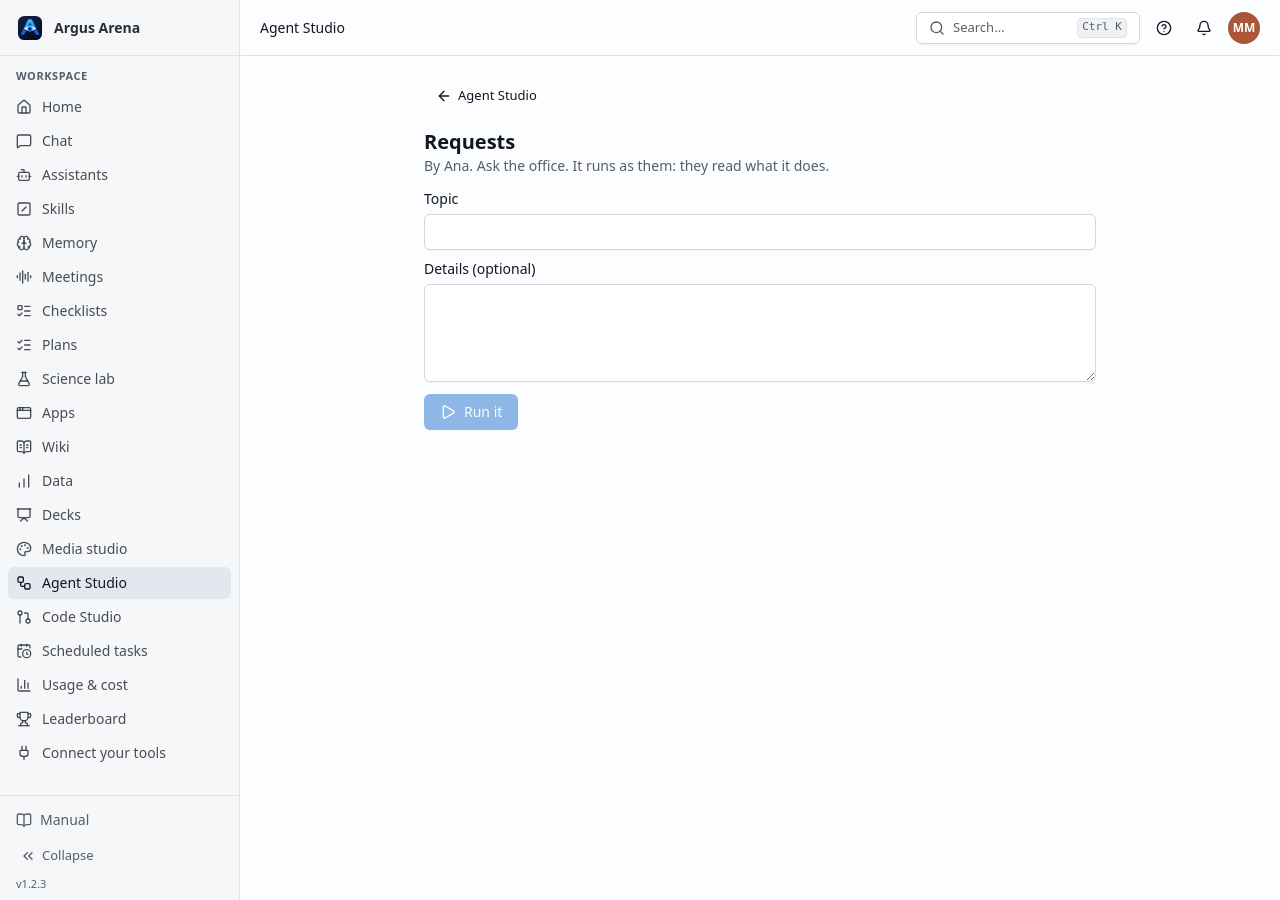
Agent Studio › a shared workflow is a form: it runs as its owner, needed fields first
This screenshot has width=1280, height=900.
expect the text "By Ana" shows "It runs as them": met, box [569,156,829,175]
expect the button "Run it" is disabled: met, box [424,394,518,430]
Type "Chairs" into the field labelled "Topic" at [760, 232], box [424,214,1096,250]
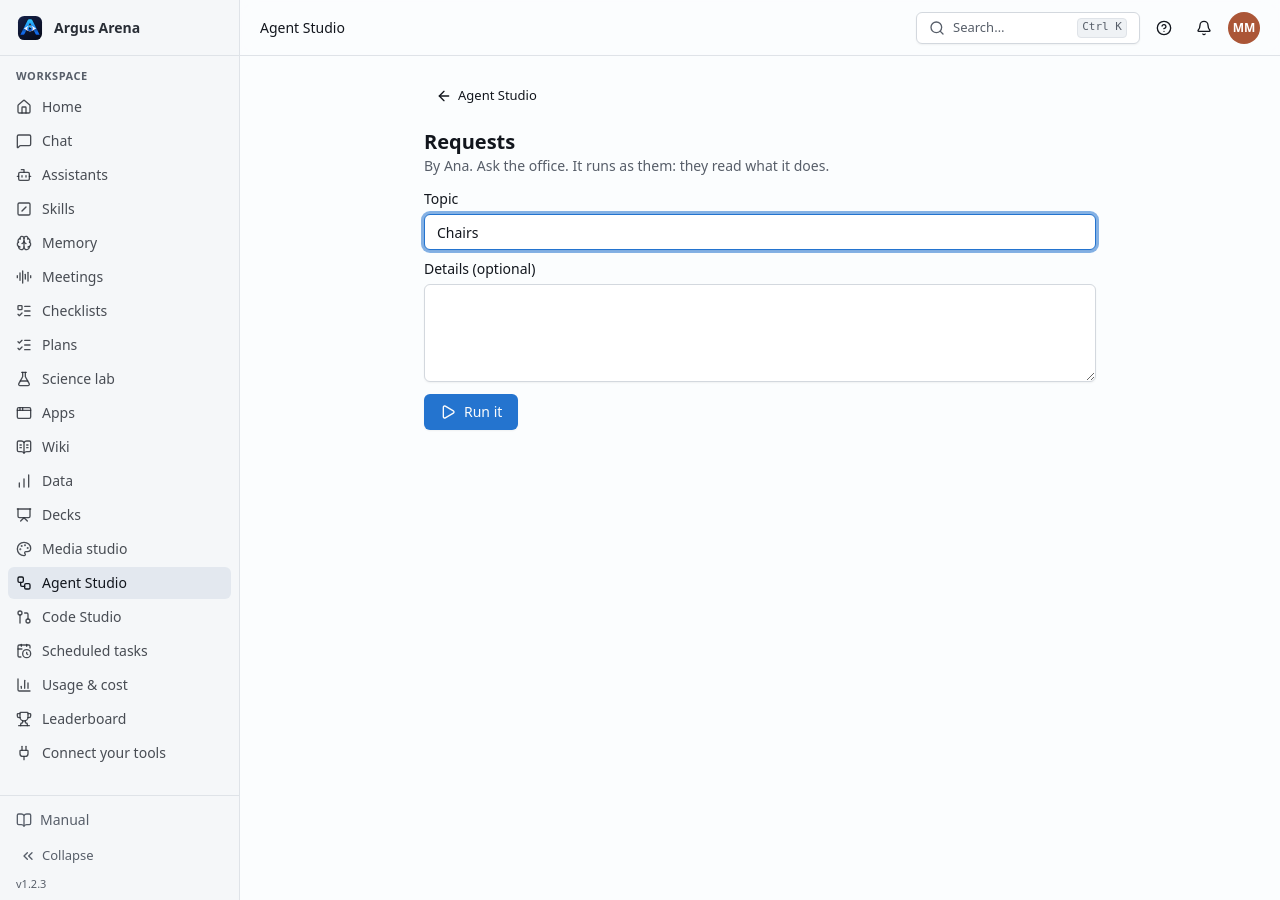
Click the button "Run it" at [471, 412], box [424,394,518,430]
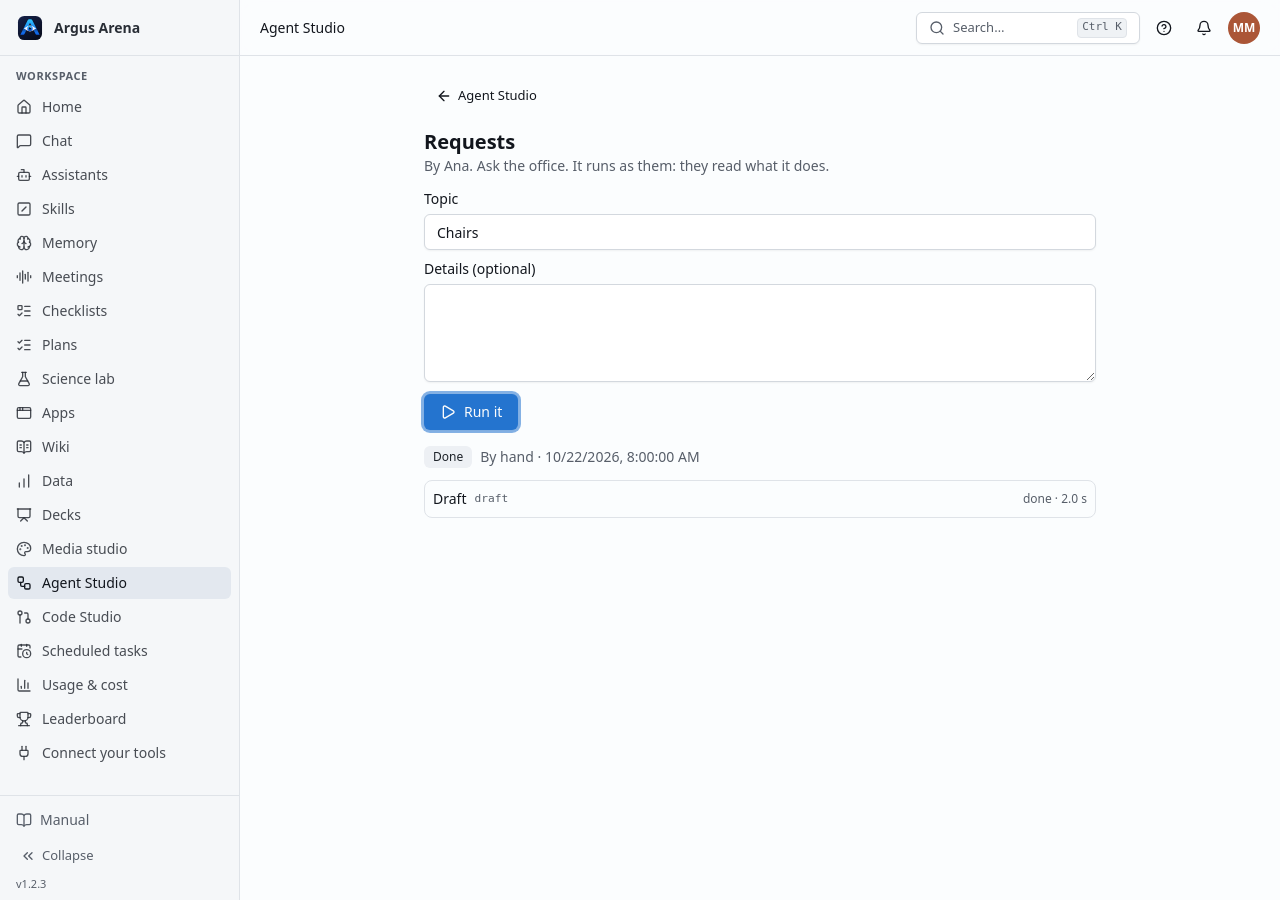
expect the element named "The run" shows "Done": met, box [433,448,463,465]
